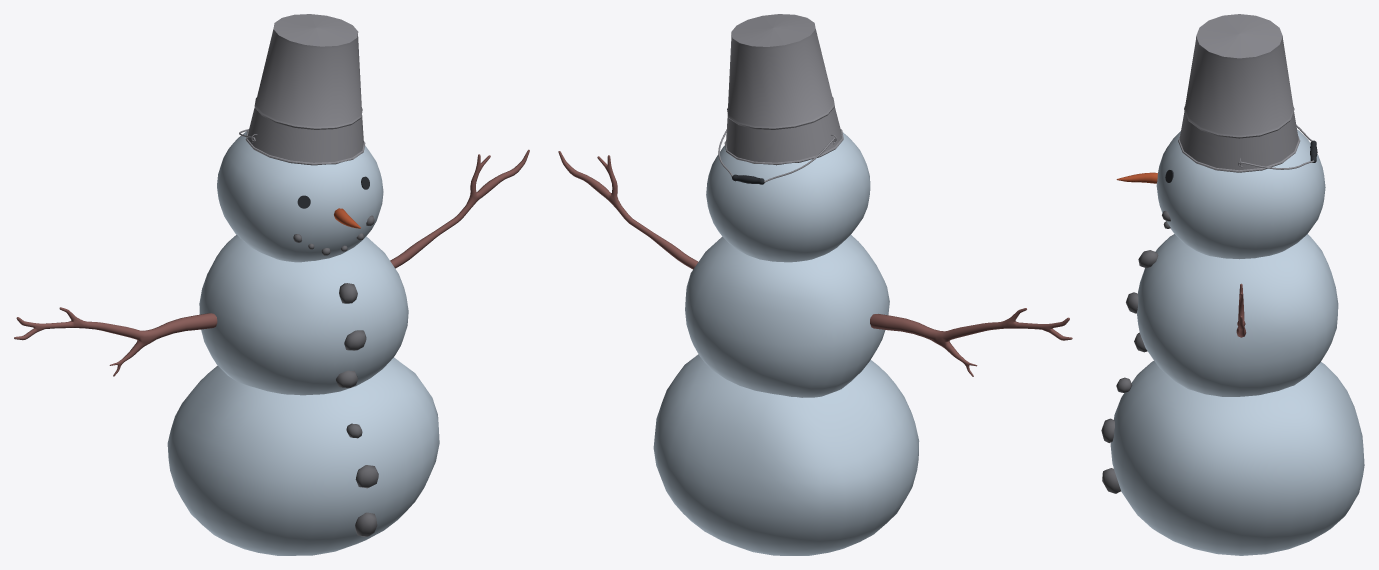
Rendered from BonecoDeNeve.fbx.
3 renders of one model, left to right at view 1: azimuth 30°, elevation 25°; view 2: azimuth 150°, elevation 25°; view 3: azimuth 270°, elevation 25°, orthographic.
Parts seen in each view (by area): view 1: BonecoDeNeve.Base.Retopo, Balde.Retopo, Galho.Retopo.001, Galho.Retopo; view 2: BonecoDeNeve.Base.Retopo, Balde.Retopo, Galho.Retopo.001, Galho.Retopo; view 3: BonecoDeNeve.Base.Retopo, Balde.Retopo, Balde.Pegador.Retopo, Pedras.Retopo.011, BonecoDeNeve.Cenora.Retopo, Galho.Retopo.
Boxes of the visible parts, x1,y1,x2,y2 form: BonecoDeNeve.Base.Retopo: [167, 131, 439, 555]; Balde.Retopo: [245, 14, 365, 165]; Galho.Retopo.001: [14, 307, 217, 376]; Galho.Retopo: [390, 149, 529, 268]; BonecoDeNeve.Base.Retopo: [653, 132, 919, 555]; Balde.Retopo: [724, 14, 843, 165]; Galho.Retopo.001: [870, 308, 1072, 376]; Galho.Retopo: [558, 151, 698, 269]; BonecoDeNeve.Base.Retopo: [1110, 129, 1364, 555]; Balde.Retopo: [1178, 14, 1300, 172]; Balde.Pegador.Retopo: [1238, 125, 1317, 169]; Pedras.Retopo.011: [1102, 468, 1120, 493]; BonecoDeNeve.Cenora.Retopo: [1116, 172, 1157, 183]; Galho.Retopo: [1236, 283, 1246, 337].
Size of the model in its own units: 213 by 201 by 92.97.
